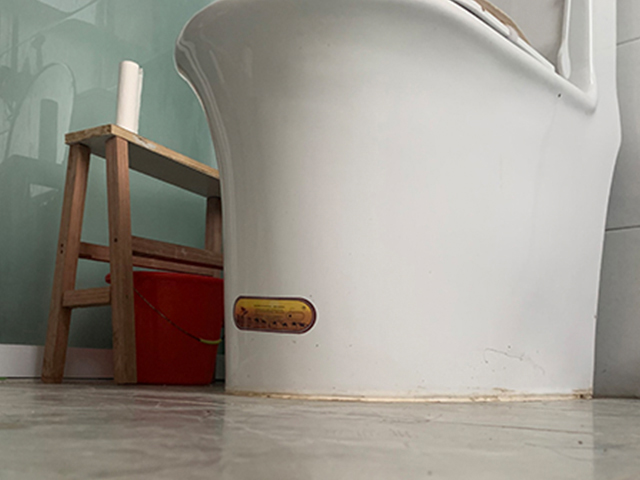closestool: (173, 1, 623, 401)
stool: (40, 124, 224, 386)
